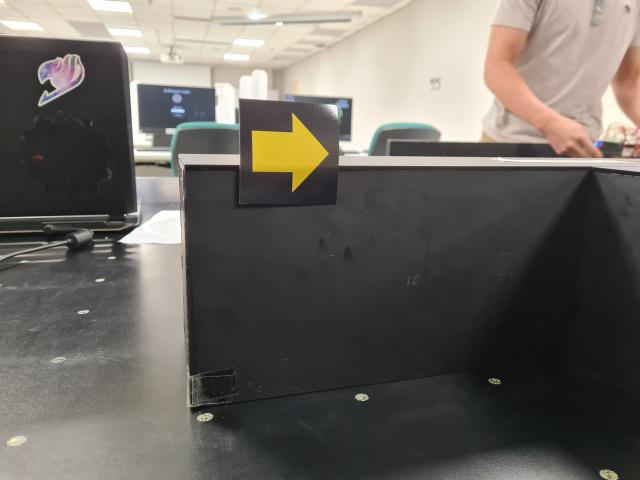right: (237, 97, 341, 208)
